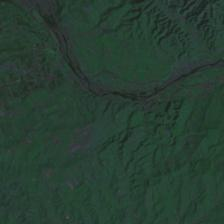landslides: (175, 111, 184, 124)
